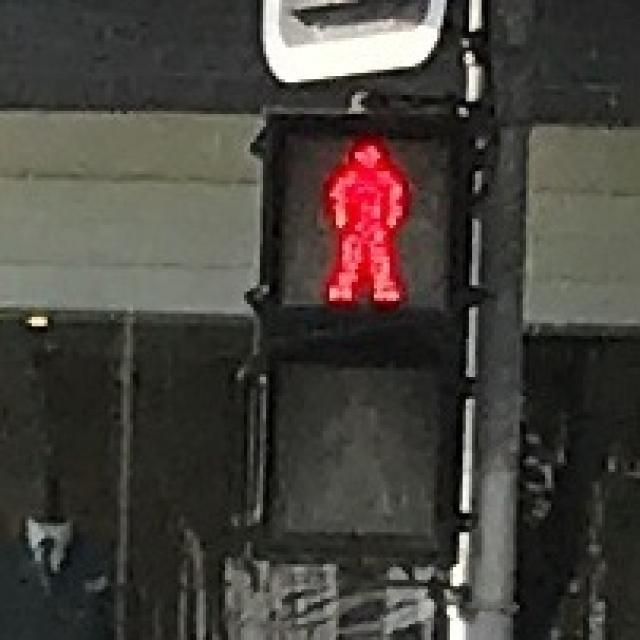red-crossing: (278, 117, 438, 314)
